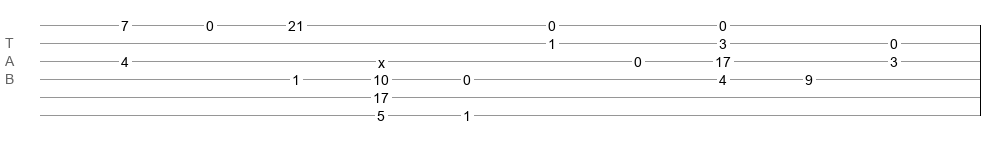0: (206, 18, 214, 28), (463, 72, 471, 82), (548, 18, 556, 28), (634, 54, 642, 64), (719, 18, 727, 28), (890, 36, 898, 46)
1: (292, 72, 300, 82), (463, 108, 471, 118), (548, 36, 556, 46)
10: (373, 72, 389, 82)
17: (373, 90, 389, 100), (715, 54, 731, 64)
21: (288, 18, 304, 28)
3: (719, 36, 727, 46), (890, 54, 898, 64)
4: (121, 54, 129, 64), (719, 72, 727, 82)
5: (377, 108, 385, 118)
7: (121, 18, 129, 28)
9: (805, 72, 813, 82)
x: (378, 55, 385, 63)
